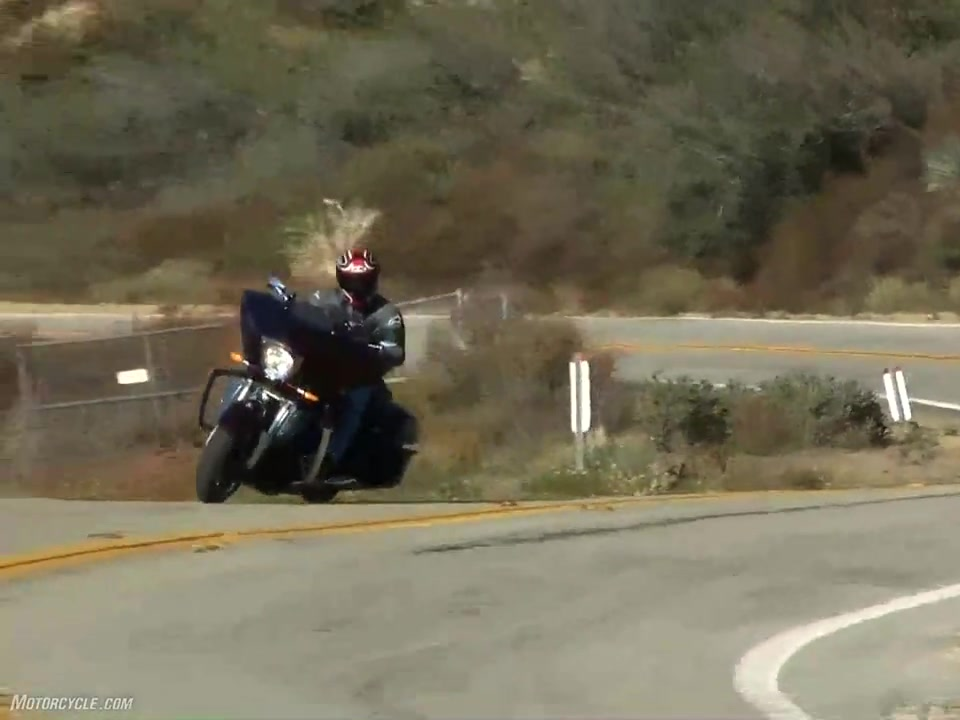motorbike: (185, 285, 421, 512)
